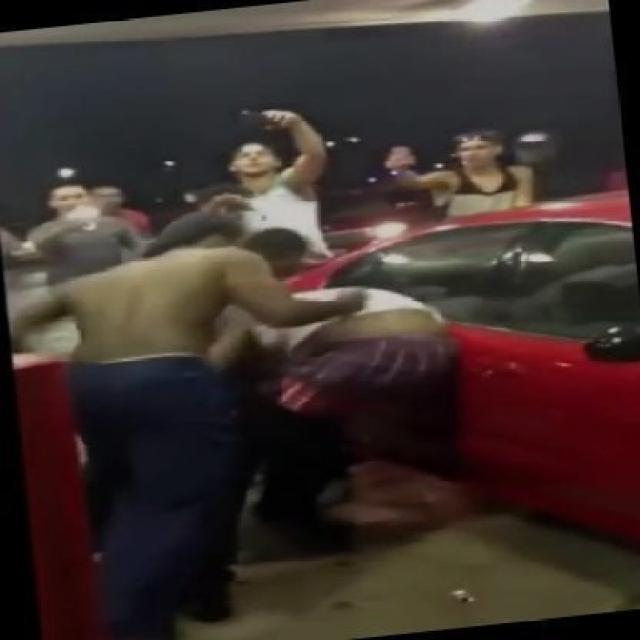fight: (14, 214, 371, 635)
non-fight: (202, 282, 460, 538), (206, 110, 330, 264)
